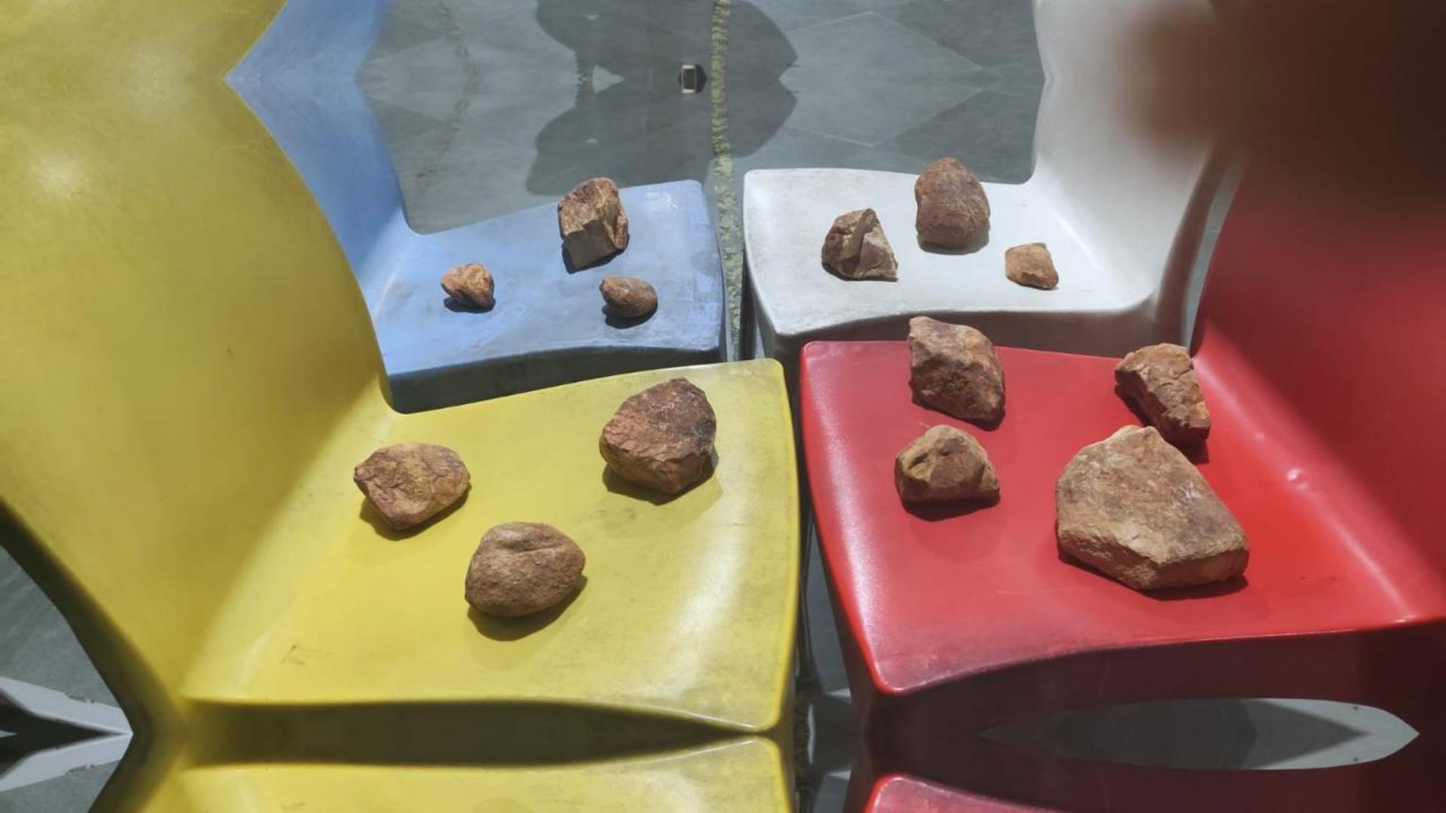rock: (1056, 426, 1247, 589), (599, 378, 715, 493), (465, 522, 585, 617), (908, 316, 1003, 426), (352, 443, 469, 530), (1115, 343, 1210, 446), (895, 425, 999, 502), (914, 157, 988, 252), (558, 177, 628, 271), (821, 208, 897, 280), (441, 262, 494, 311), (1004, 243, 1059, 289), (600, 276, 657, 318)
